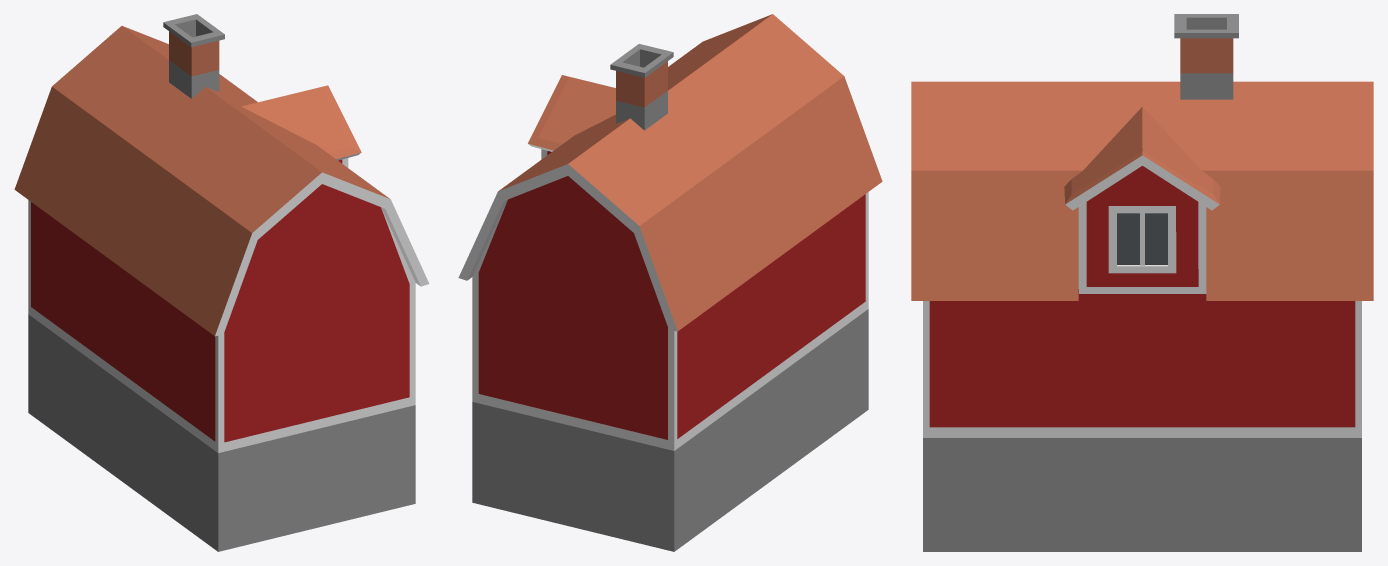
File: house_swedish_01.glb
3 renders of one model, left to right at view 1: azimuth 30°, elevation 25°; view 2: azimuth 150°, elevation 25°; view 3: azimuth 270°, elevation 25°, orthographic. The views are drawn at different scales.
Visible parts, largest first — view 1: House, Cube.001; view 2: House, Cube.001; view 3: House, Cube.001.
Part boxes in pixels (x1,y1,x2,y2): House: (14,26,429,551); Cube.001: (163,14,224,98); House: (458,14,882,551); Cube.001: (610,44,673,130); House: (911,81,1373,551); Cube.001: (1174,14,1238,99).
Size of the model in its own units: 6.52 by 11.89 by 10.54.
